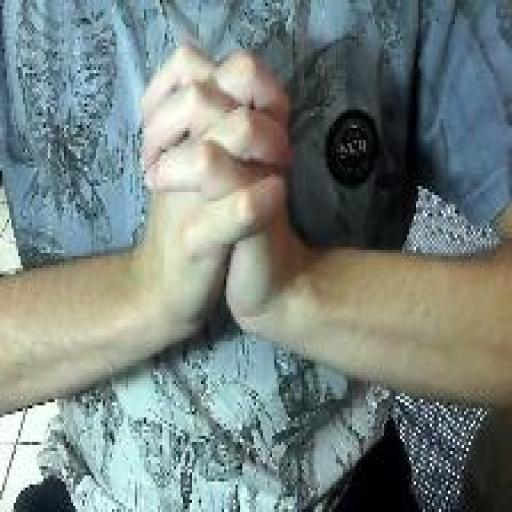Mi -snake-: (137, 38, 297, 337)
